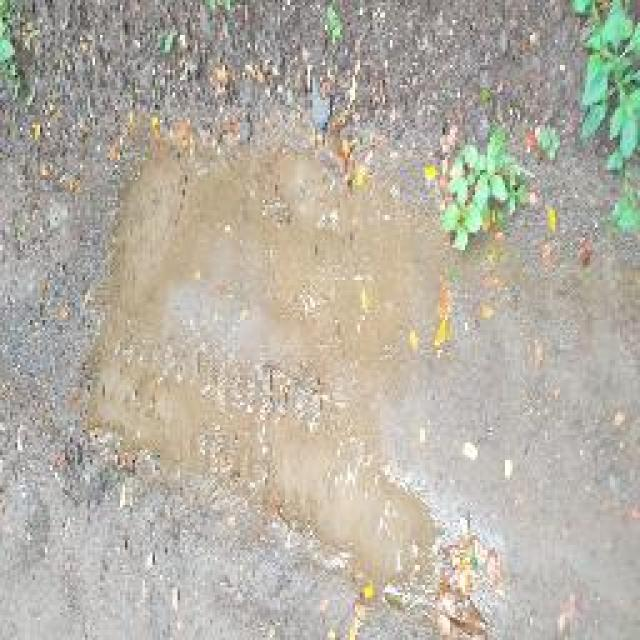stagnation: (31, 147, 460, 576)
